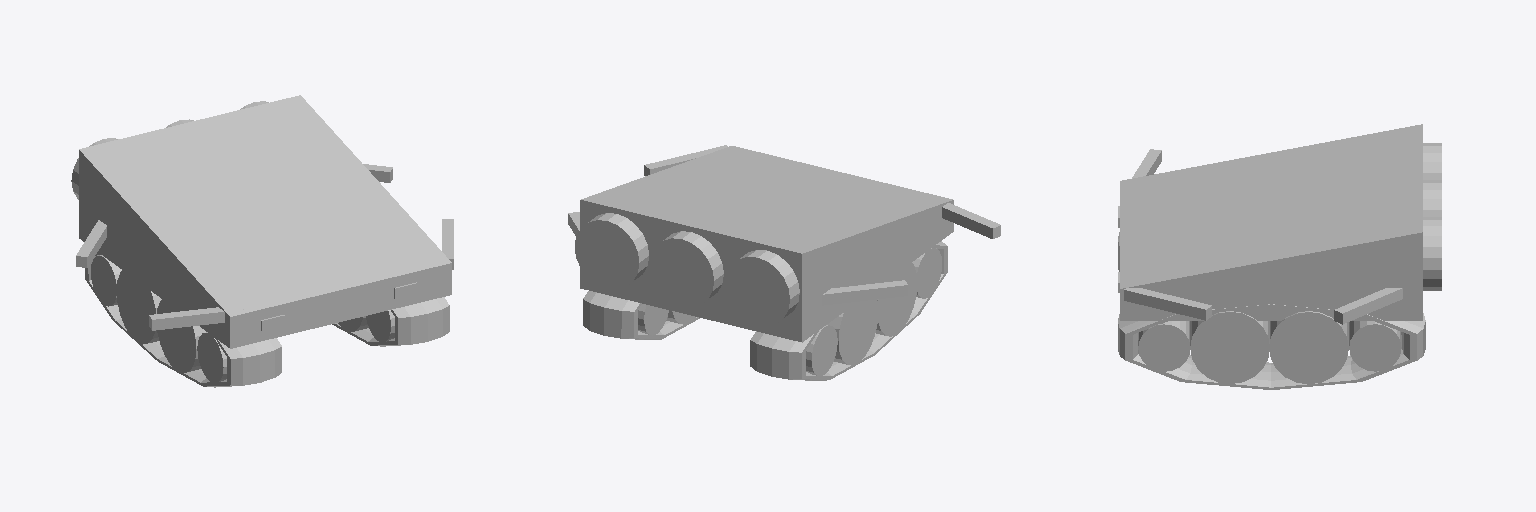
Rendered from RetreiverBody.obj.
3 views of the same model, side by side, from view 1: azimuth 30°, elevation 25°; view 2: azimuth 150°, elevation 25°; view 3: azimuth 270°, elevation 25° (orthographic).
Parts seen in each view (by area): view 1: pCube77, pTorus5, pTorus2, pCylinder6, pCylinder5, pCube80, pCylinder8, pCylinder7, pCube83, pCylinder1; view 2: pCube77, pCylinder11, pCylinder10, pCylinder9, pTorus5, pTorus2, pCylinder6, pCylinder5, pCube83, pCylinder8, pCylinder7, pCube80 (+2 smaller); view 3: pCube77, pTorus2, pCylinder2, pCylinder3, pCylinder4, pCylinder1, pCube78, pCylinder11, pCube84, pCylinder10, pCylinder9.
Part boxes in pixels (bbox=[...]): pCube77: bbox=[79, 95, 451, 348]; pTorus5: bbox=[85, 252, 281, 387]; pTorus2: bbox=[332, 297, 449, 346]; pCylinder6: bbox=[117, 270, 161, 344]; pCylinder5: bbox=[157, 299, 205, 372]; pCube80: bbox=[149, 307, 243, 330]; pCylinder8: bbox=[91, 255, 121, 306]; pCylinder7: bbox=[197, 332, 226, 383]; pCube83: bbox=[76, 220, 106, 267]; pCylinder1: bbox=[366, 310, 394, 342]; pCube77: bbox=[580, 146, 953, 342]; pCylinder11: bbox=[575, 213, 648, 289]; pCylinder10: bbox=[649, 231, 723, 307]; pCylinder9: bbox=[725, 250, 799, 325]; pTorus5: bbox=[750, 241, 947, 380]; pTorus2: bbox=[583, 291, 699, 339]; pCylinder6: bbox=[827, 300, 878, 365]; pCylinder5: bbox=[876, 263, 916, 336]; pCube83: bbox=[822, 280, 907, 305]; pCylinder8: bbox=[806, 325, 837, 375]; pCylinder7: bbox=[912, 248, 941, 298]; pCube80: bbox=[942, 203, 1000, 238]; pCube77: bbox=[1120, 124, 1422, 320]; pTorus2: bbox=[1118, 304, 1425, 389]; pCylinder2: bbox=[1190, 311, 1269, 383]; pCylinder3: bbox=[1269, 311, 1348, 383]; pCylinder4: bbox=[1349, 321, 1401, 371]; pCylinder1: bbox=[1138, 321, 1190, 371]; pCube78: bbox=[1124, 288, 1211, 320]; pCylinder11: bbox=[1423, 217, 1441, 290]; pCube84: bbox=[1334, 288, 1402, 324]; pCylinder10: bbox=[1423, 180, 1441, 216]; pCylinder9: bbox=[1423, 143, 1441, 179].
Size of the model in its own units: 1.37 by 0.6219 by 1.14.